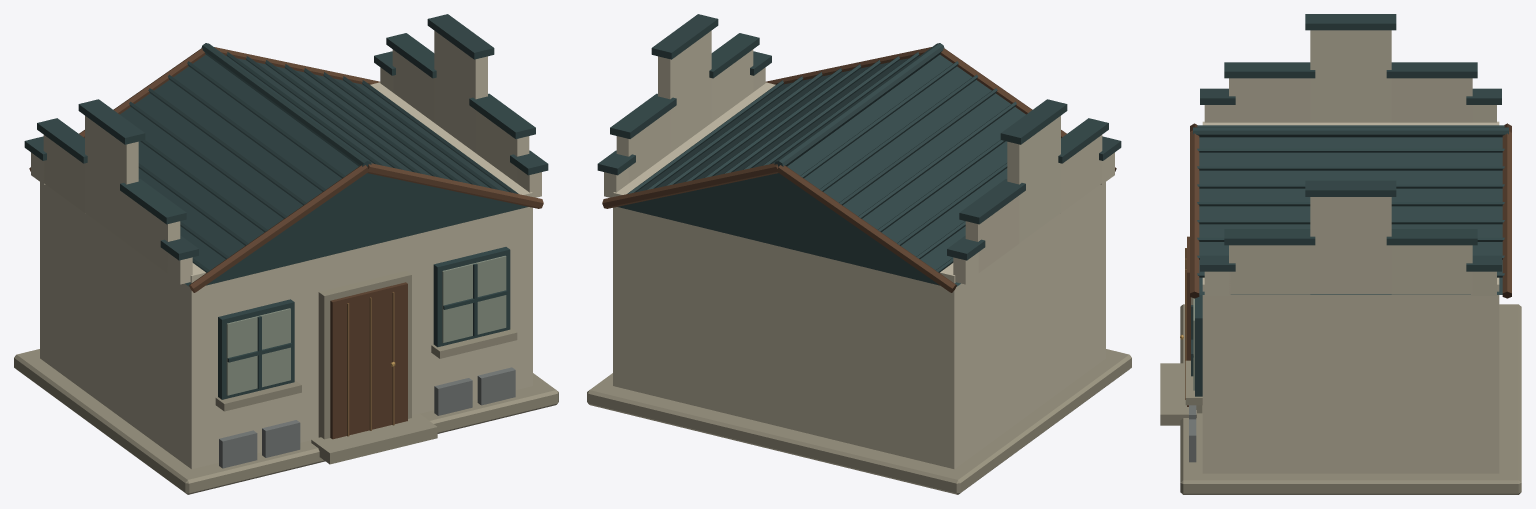
Rendered from build-huizhou.glb.
3 views of the same model, side by side, from view 1: azimuth 30°, elevation 25°; view 2: azimuth 150°, elevation 25°; view 3: azimuth 270°, elevation 25° (orthographic). The views are drawn at different scales.
Parts seen in each view (by area): view 1: SculptedModel; view 2: SculptedModel; view 3: SculptedModel.
Part boxes in pixels (x1,y1,x2,y2): SculptedModel: (14, 14, 558, 494); SculptedModel: (587, 14, 1131, 494); SculptedModel: (1160, 14, 1521, 494).
Size of the model in its own units: 5.2 by 4.14 by 4.44.
